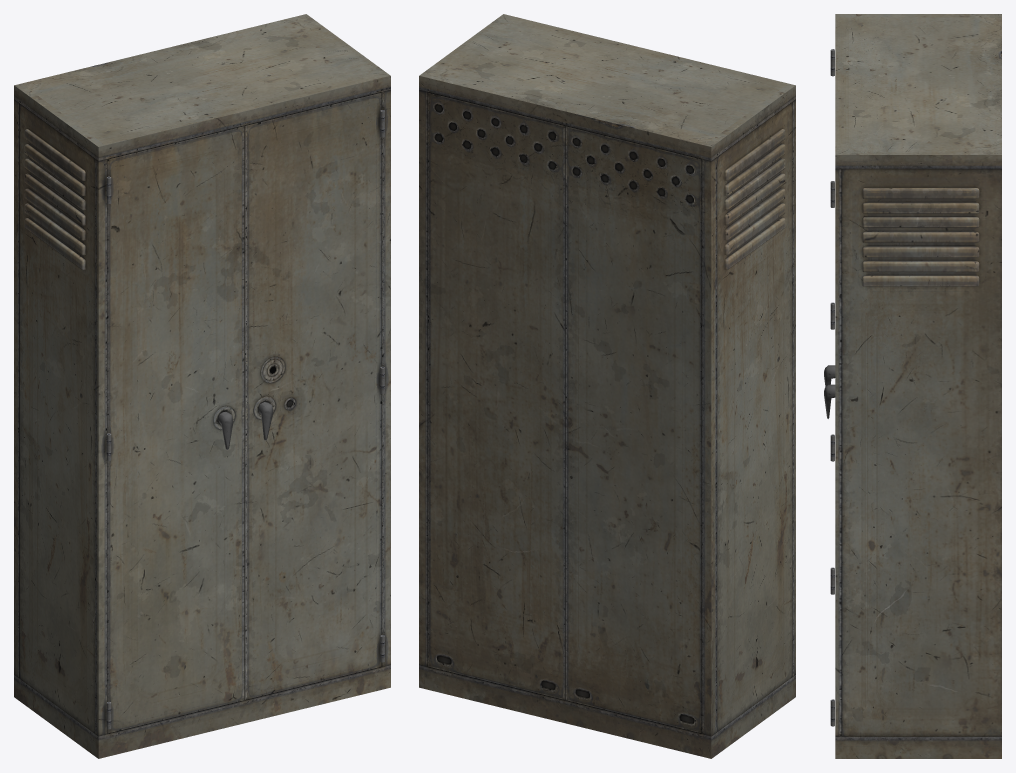
Rendered from Locker1.fbx.
The picture shows the model from 3 angles, left to right: view 1: azimuth 30°, elevation 25°; view 2: azimuth 150°, elevation 25°; view 3: azimuth 270°, elevation 25°; orthographic projection.
Visible parts, largest first — view 1: polySurface40; view 2: polySurface40; view 3: polySurface40.
Boxes of the visible parts, x1=… form: polySurface40: x1=14, y1=14, x2=390, y2=758; polySurface40: x1=419, y1=14, x2=795, y2=758; polySurface40: x1=824, y1=14, x2=1001, y2=758.
Size of the model in its own units: 0.8035 by 1.57 by 0.4199.
